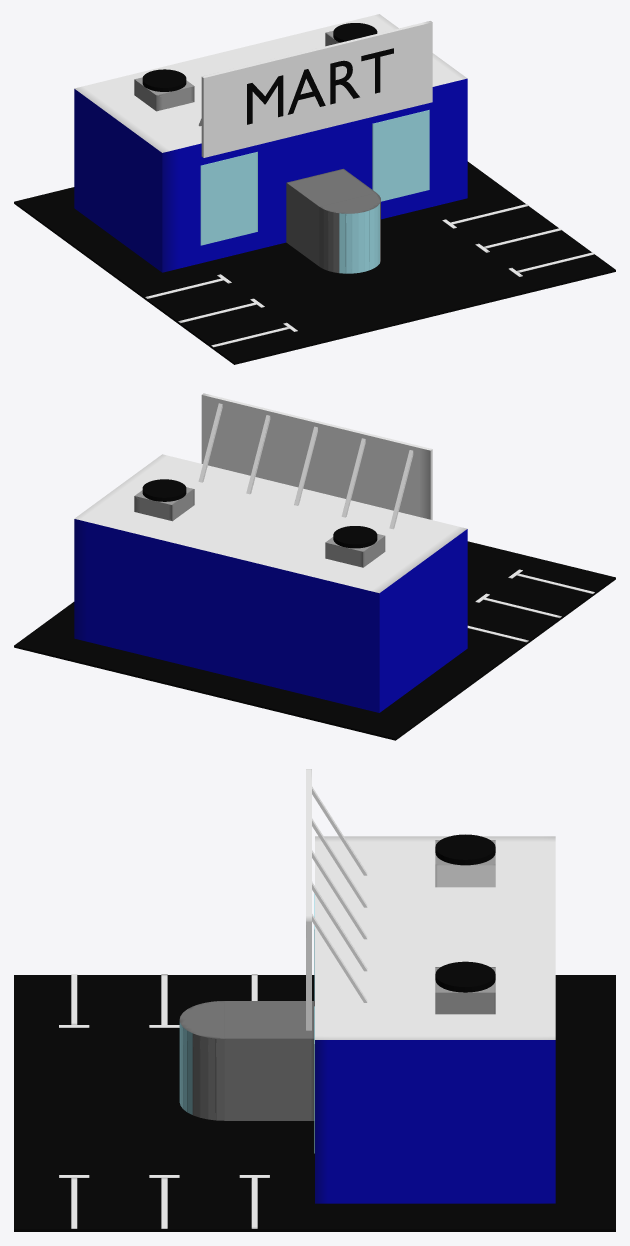
Rendered from shop2.gltf.
The picture shows the model from 3 angles, top to bottom: view 1: azimuth 30°, elevation 25°; view 2: azimuth 150°, elevation 25°; view 3: azimuth 270°, elevation 25°; orthographic projection. The views are drawn at different scales.
Visible parts, largest first — view 1: Cube; view 2: Cube; view 3: Cube.
Part boxes in pixels (bbox=[...]): Cube: bbox=[14, 14, 615, 364]; Cube: bbox=[14, 393, 615, 740]; Cube: bbox=[14, 769, 615, 1231].
Bounding box in the file's own units: 20 × 9.51 × 20.
Materials: 2 (2 with a texture image).
